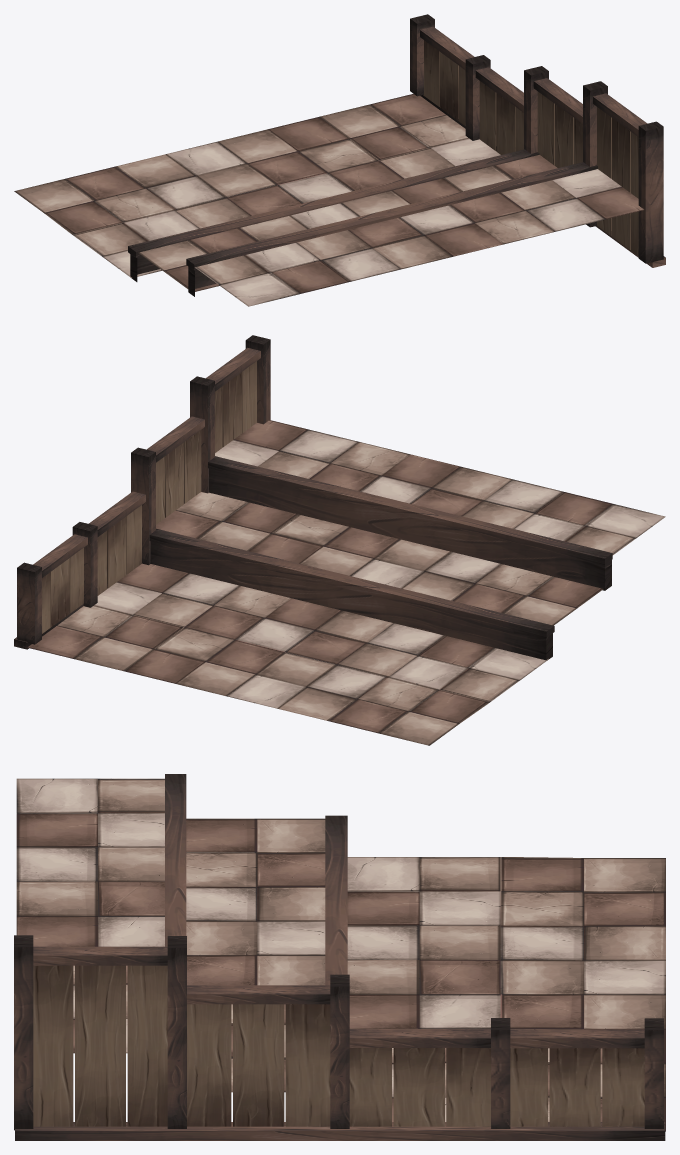
File: Straight2_wall_half.fbx
3 renders of one model, top to bottom at view 1: azimuth 30°, elevation 25°; view 2: azimuth 150°, elevation 25°; view 3: azimuth 270°, elevation 25°, orthographic. The views are drawn at different scales.
Parts seen in each view (by area): view 1: Straight2_wall_half; view 2: Straight2_wall_half; view 3: Straight2_wall_half.
Part boxes in pixels (bbox=[...]): Straight2_wall_half: bbox=[14, 14, 665, 306]; Straight2_wall_half: bbox=[14, 335, 665, 745]; Straight2_wall_half: bbox=[14, 774, 665, 1140].
Size of the model in its own units: 0.6169 by 0.1965 by 0.6053.
